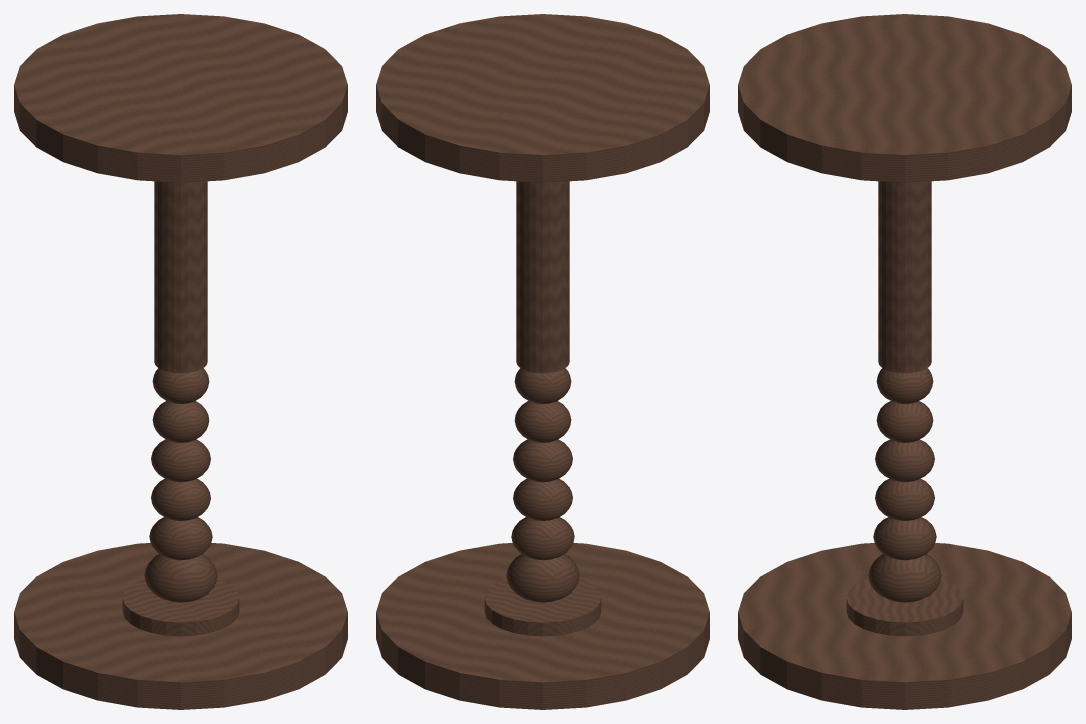
3 views of the same model, side by side, from view 1: azimuth 30°, elevation 25°; view 2: azimuth 150°, elevation 25°; view 3: azimuth 270°, elevation 25° (orthographic).
Visible parts, largest first — view 1: 1 tabletop, 2 base_plate, 4 upper_pedestal, 3 base_collar, 5 pedestal_bead_1, 6 pedestal_bead_2, 8 pedestal_bead_4, 7 pedestal_bead_3, 9 pedestal_bead_5, 10 pedestal_bead_6; view 2: 1 tabletop, 2 base_plate, 4 upper_pedestal, 3 base_collar, 5 pedestal_bead_1, 6 pedestal_bead_2, 8 pedestal_bead_4, 7 pedestal_bead_3, 9 pedestal_bead_5, 10 pedestal_bead_6; view 3: 1 tabletop, 2 base_plate, 4 upper_pedestal, 3 base_collar, 5 pedestal_bead_1, 6 pedestal_bead_2, 8 pedestal_bead_4, 7 pedestal_bead_3, 9 pedestal_bead_5, 10 pedestal_bead_6.
Boxes of the visible parts, bbox=[...] form: 1 tabletop: bbox=[14, 14, 347, 182]; 2 base_plate: bbox=[14, 543, 347, 709]; 4 upper_pedestal: bbox=[154, 181, 207, 373]; 3 base_collar: bbox=[122, 579, 239, 636]; 5 pedestal_bead_1: bbox=[144, 554, 217, 602]; 6 pedestal_bead_2: bbox=[149, 517, 212, 560]; 8 pedestal_bead_4: bbox=[151, 439, 210, 482]; 7 pedestal_bead_3: bbox=[151, 478, 210, 520]; 9 pedestal_bead_5: bbox=[152, 401, 209, 442]; 10 pedestal_bead_6: bbox=[152, 368, 209, 403]; 1 tabletop: bbox=[376, 14, 709, 182]; 2 base_plate: bbox=[376, 543, 709, 709]; 4 upper_pedestal: bbox=[516, 181, 569, 373]; 3 base_collar: bbox=[484, 579, 601, 636]; 5 pedestal_bead_1: bbox=[506, 554, 579, 602]; 6 pedestal_bead_2: bbox=[511, 517, 574, 560]; 8 pedestal_bead_4: bbox=[513, 439, 572, 482]; 7 pedestal_bead_3: bbox=[513, 478, 572, 520]; 9 pedestal_bead_5: bbox=[514, 401, 571, 442]; 10 pedestal_bead_6: bbox=[514, 368, 571, 403]; 1 tabletop: bbox=[738, 14, 1071, 182]; 2 base_plate: bbox=[738, 543, 1071, 709]; 4 upper_pedestal: bbox=[878, 181, 931, 373]; 3 base_collar: bbox=[846, 579, 963, 636]; 5 pedestal_bead_1: bbox=[868, 554, 941, 602]; 6 pedestal_bead_2: bbox=[873, 517, 936, 560]; 8 pedestal_bead_4: bbox=[875, 439, 934, 482]; 7 pedestal_bead_3: bbox=[875, 478, 934, 520]; 9 pedestal_bead_5: bbox=[876, 401, 933, 442]; 10 pedestal_bead_6: bbox=[876, 368, 933, 404].
Bounding box in the file's own units: 0.545 × 1 × 0.545.
Materials: 1 (1 with a texture image).
